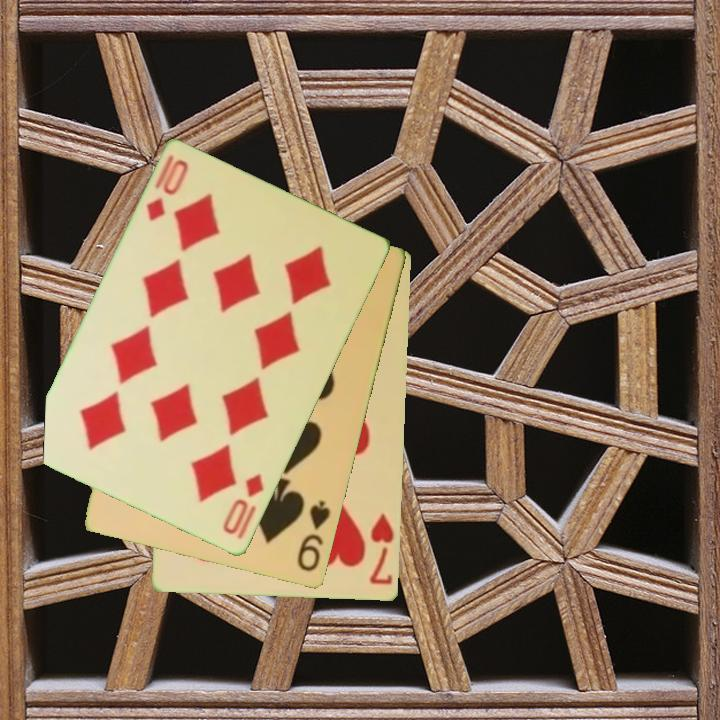10d: (219, 471, 268, 543), (143, 156, 192, 225)
7h: (366, 510, 397, 588)
9s: (294, 497, 334, 575)
